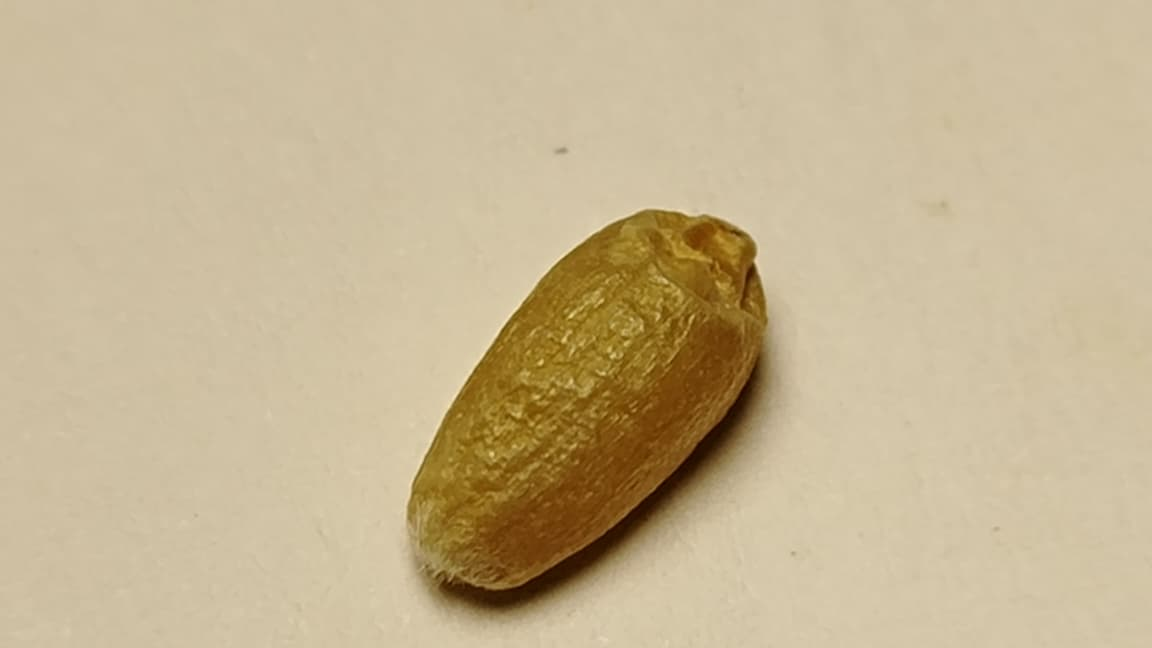healthy: (408, 209, 767, 589)
